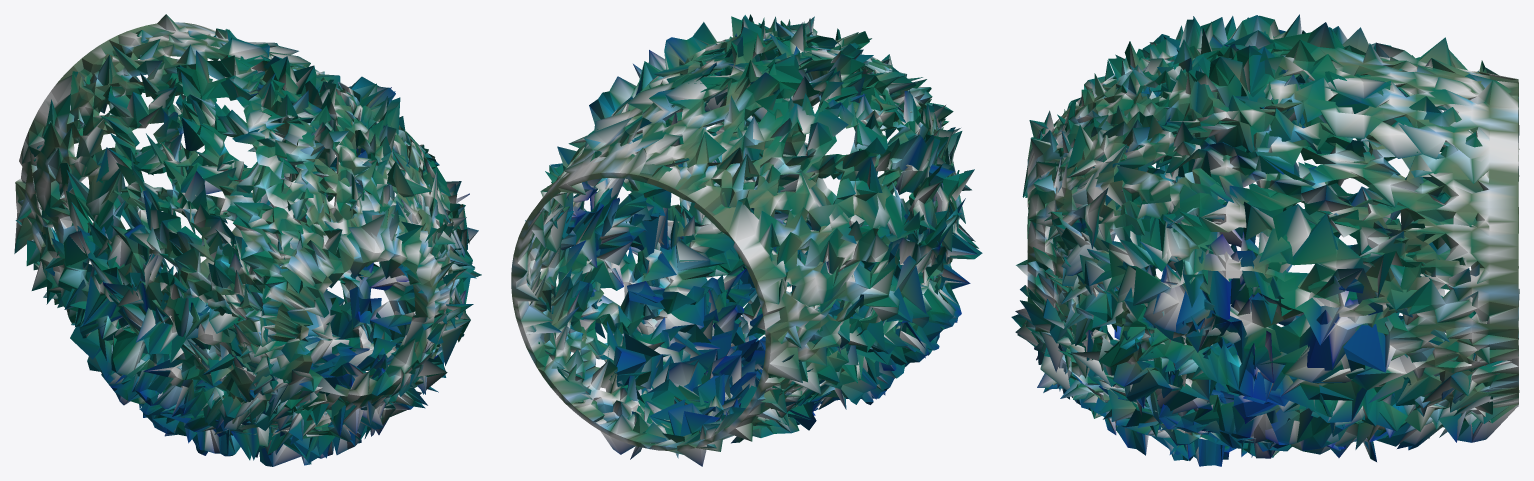
The model's file is lamp_shade_14_final500.obj.
The picture shows the model from 3 angles, left to right: view 1: azimuth 30°, elevation 25°; view 2: azimuth 150°, elevation 25°; view 3: azimuth 270°, elevation 25°; orthographic projection. The views are drawn at different scales.
Bounding box in the file's own units: 1.35 × 1.38 × 1.54.
